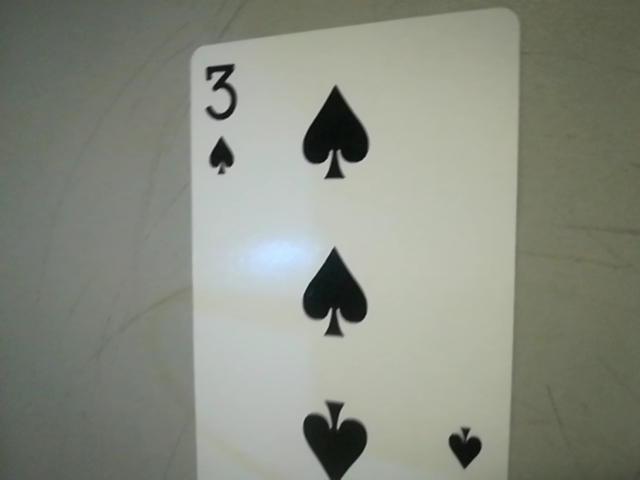ht 3: (188, 54, 255, 182)
